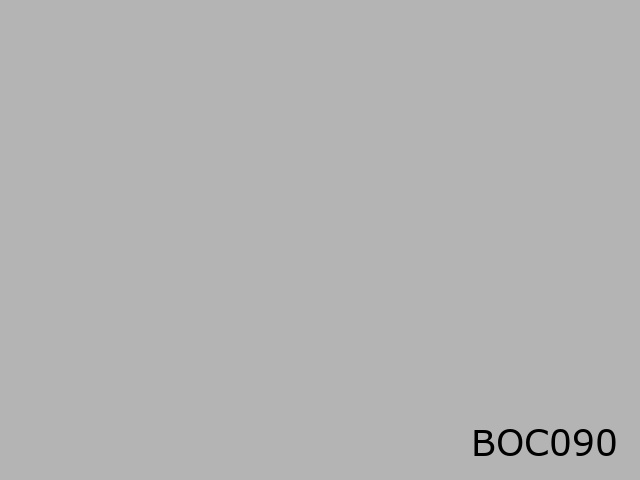OCR_AREA: (467, 425, 622, 460)
